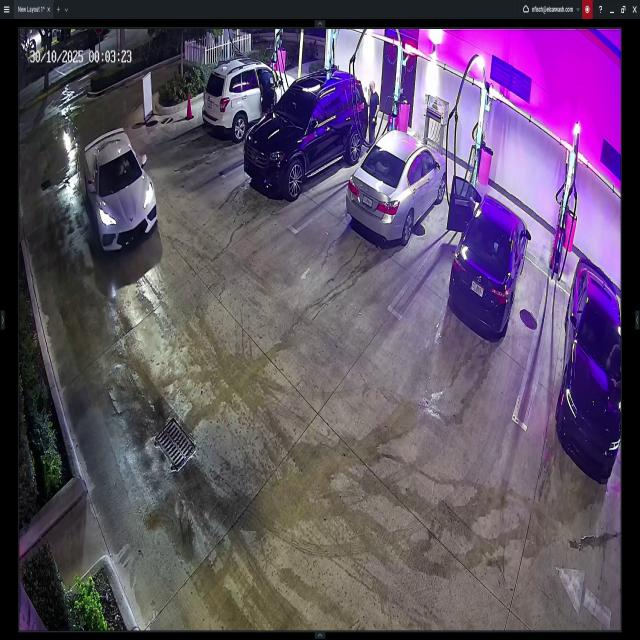Car: (557, 257, 627, 474), (451, 176, 529, 343), (252, 83, 366, 187), (348, 128, 446, 245), (80, 128, 156, 250), (202, 58, 298, 140)
